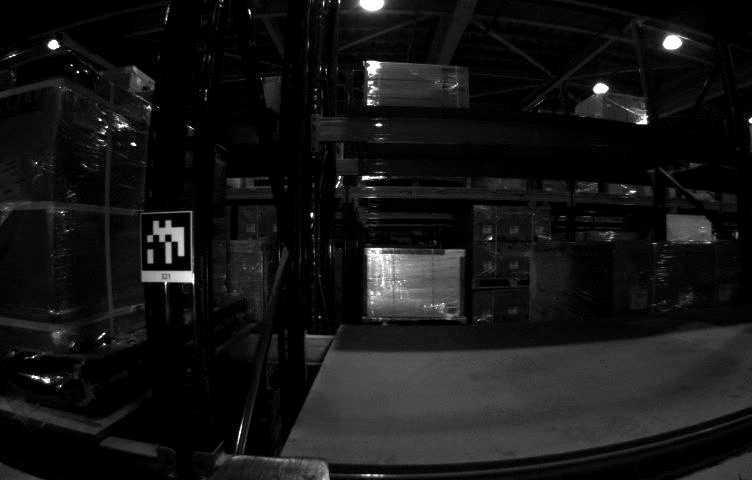True Barcode: (1, 156, 21, 198)
